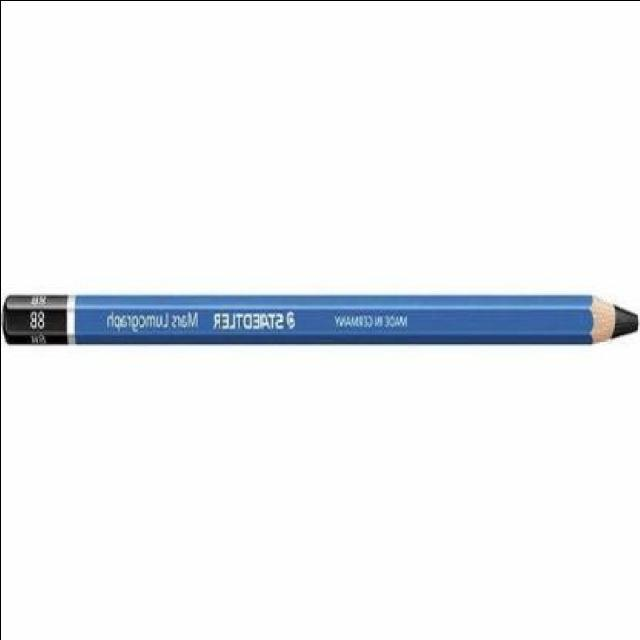Pencil: (574, 282, 640, 358)
